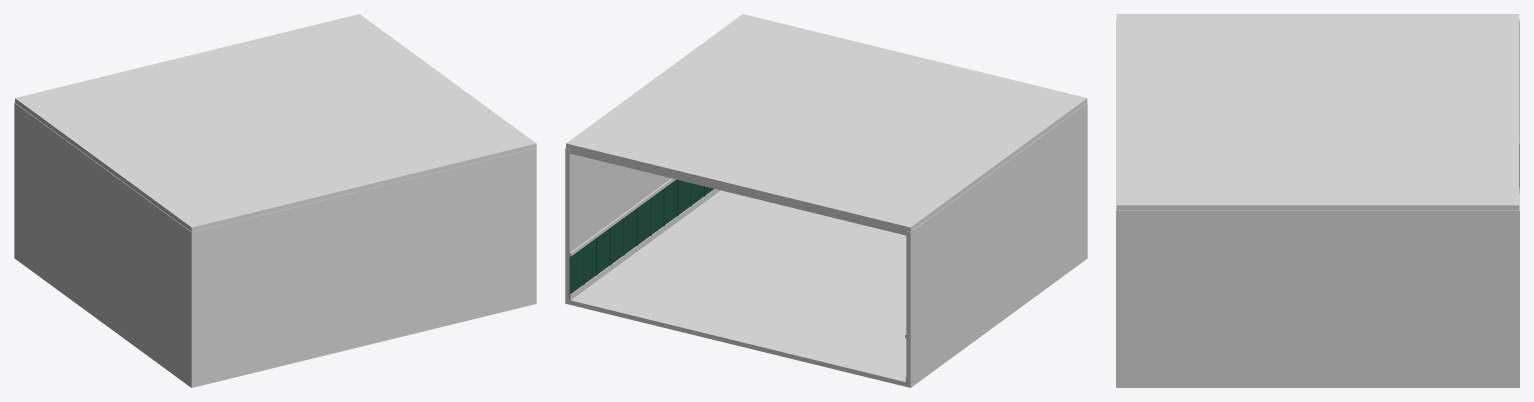
Rendered from PH_CafeRoom__Shell.fbx.
The picture shows the model from 3 angles, left to right: view 1: azimuth 30°, elevation 25°; view 2: azimuth 150°, elevation 25°; view 3: azimuth 270°, elevation 25°; orthographic projection. The views are drawn at different scales.
Parts seen in each view (by area): view 1: PH_CafeRoom__Shell; view 2: PH_CafeRoom__Shell; view 3: PH_CafeRoom__Shell.
Boxes of the visible parts, <box> form: PH_CafeRoom__Shell: <box>14,14,536,387</box>; PH_CafeRoom__Shell: <box>565,14,1087,387</box>; PH_CafeRoom__Shell: <box>1116,14,1519,387</box>.
Size of the model in its own units: 7.9 by 3.5 by 7.03.
